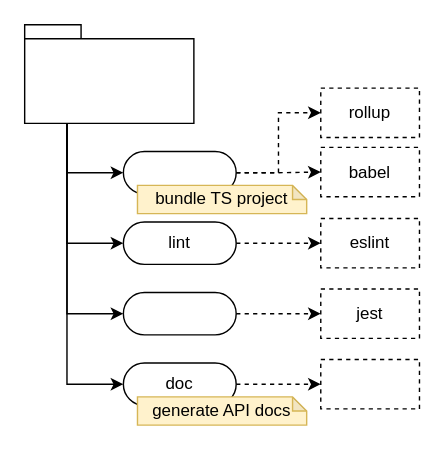
Image size: 444x450. Some labels were removed from this diagram. Here are the shapes that lost their labels. From the top down, the centre of each, then its label:
the point at 108,73: rete-cli
the point at 179,172: build
the point at 179,313: test
the point at 369,383: typedoc
